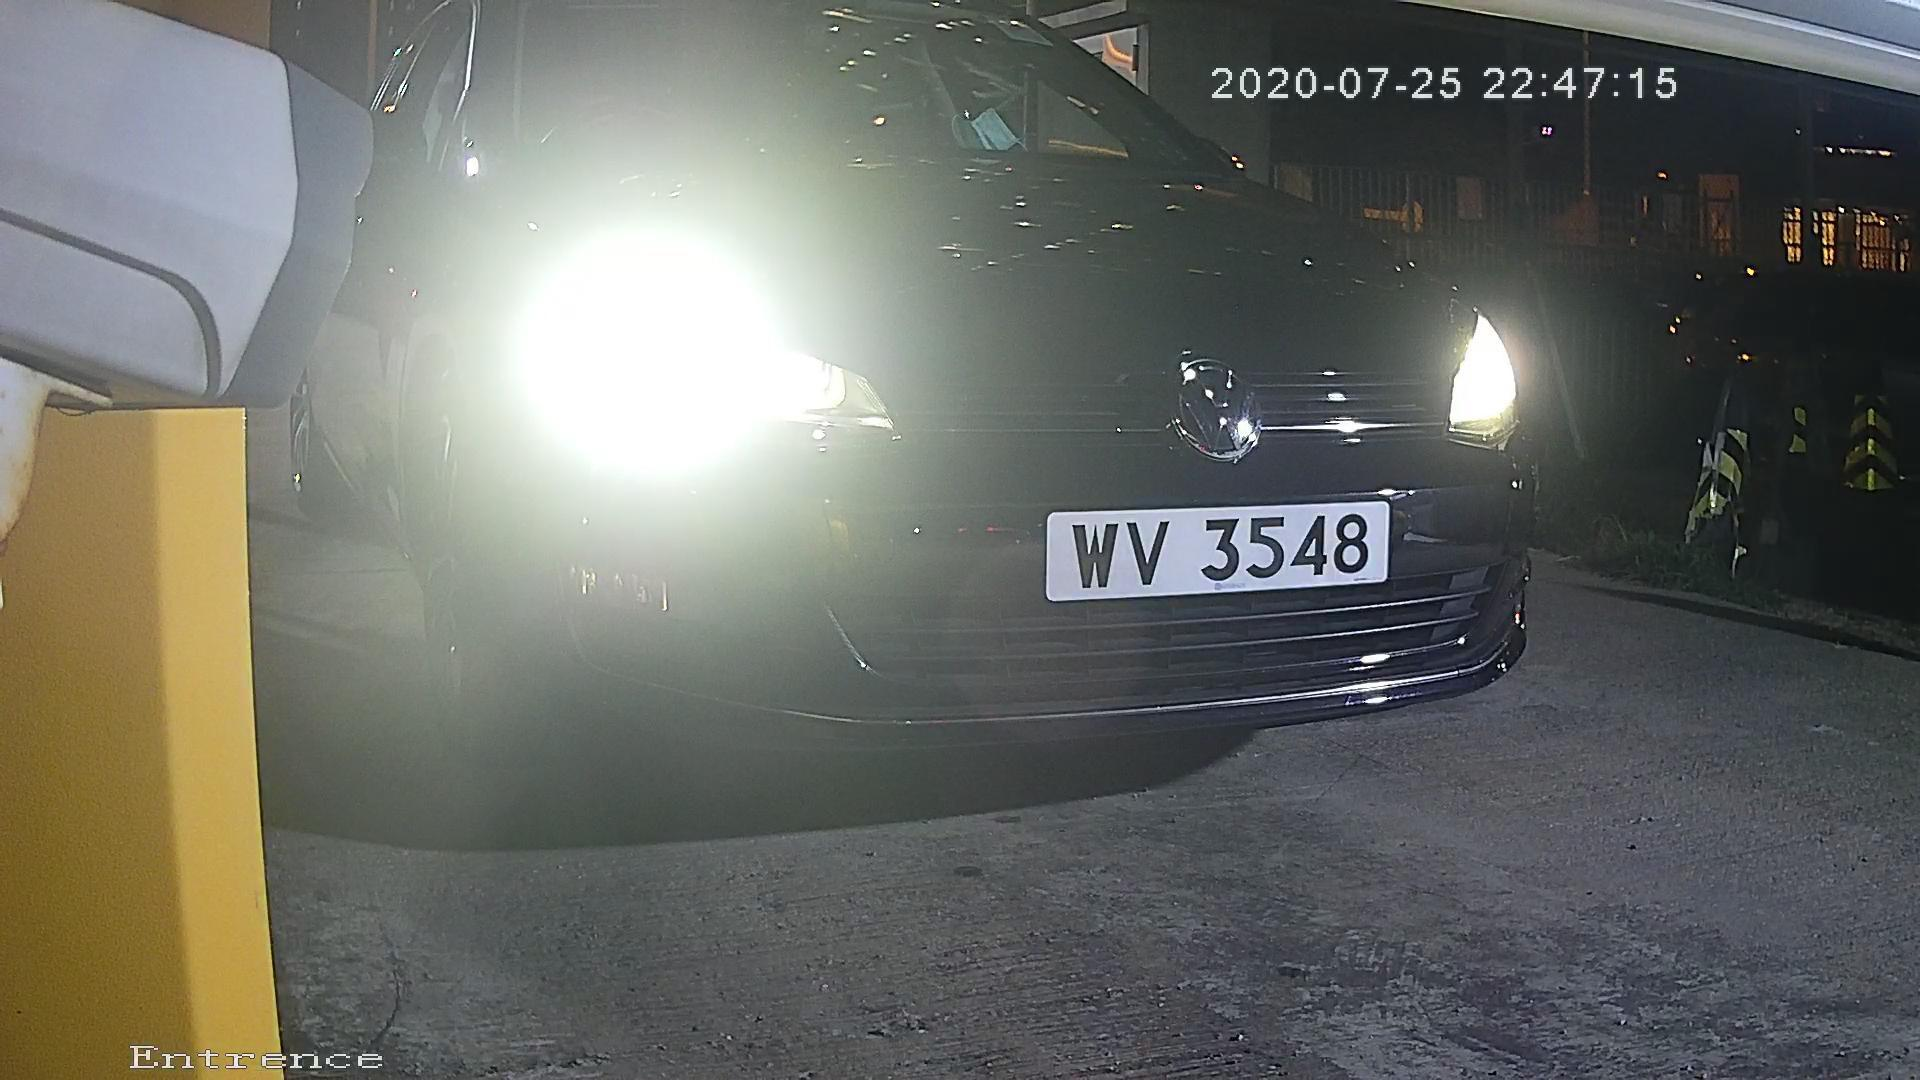privatecar: (421, 15, 1646, 806)
